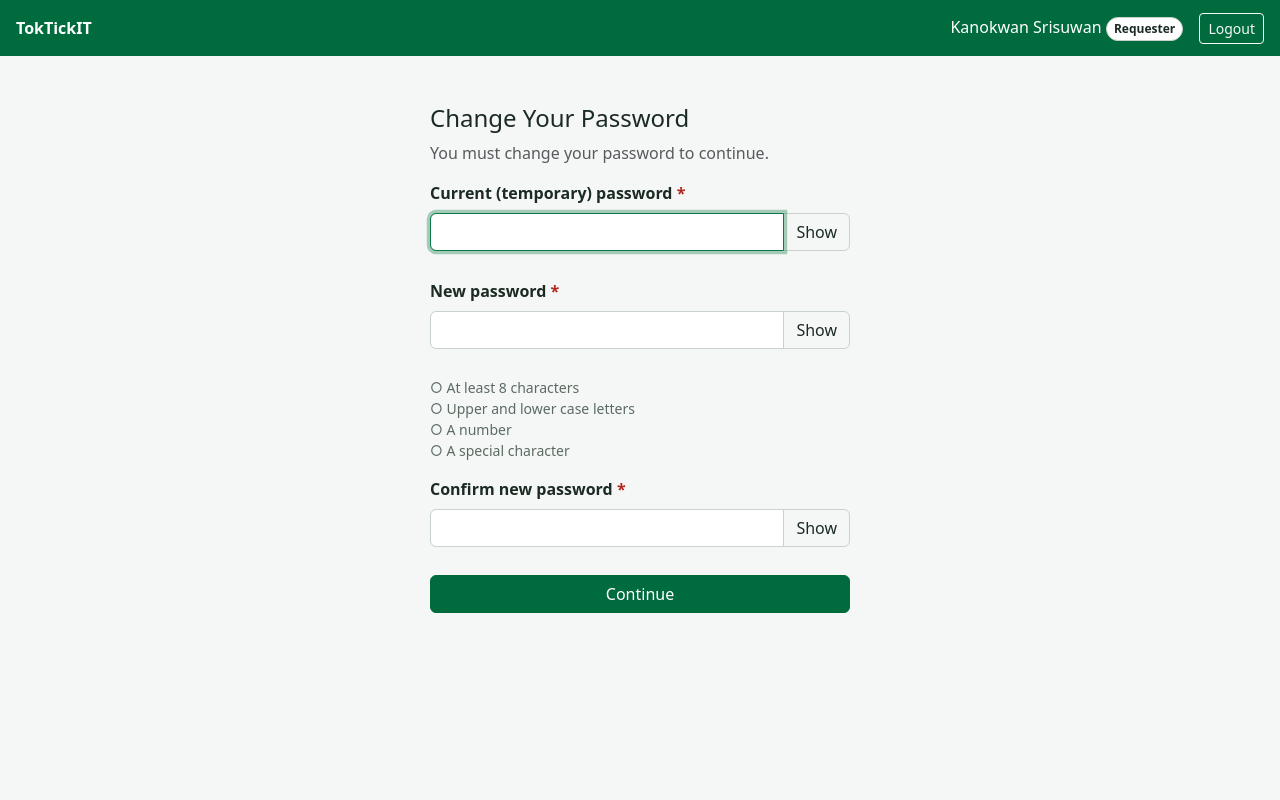
Test: Change Password screen › saves the new password, continues into the application, and the navigation appears
In the password field labelled "Current (temporary) password *": (607, 232) [430,213,784,251], type "ChangeMe!23"
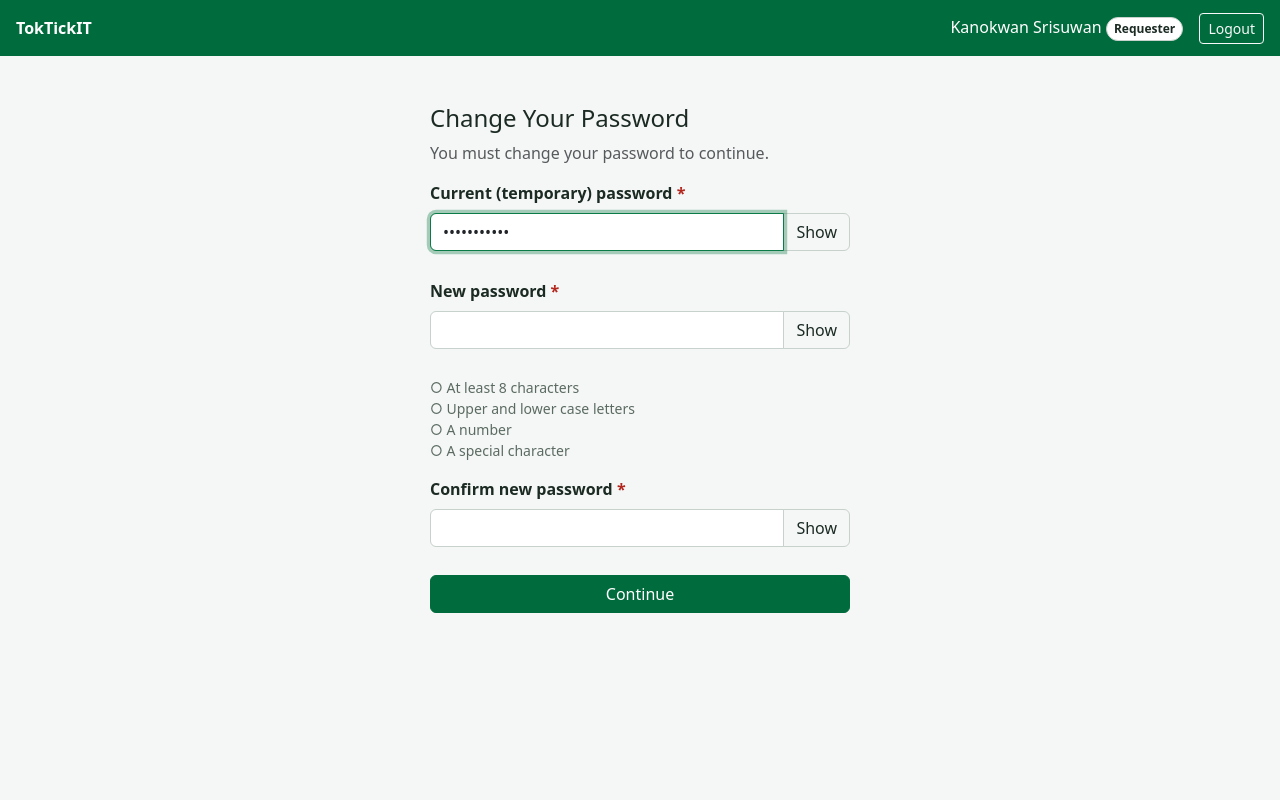
In the password field labelled "New password *": (607, 330) [430,311,784,349], type "Fresh!Pass456"
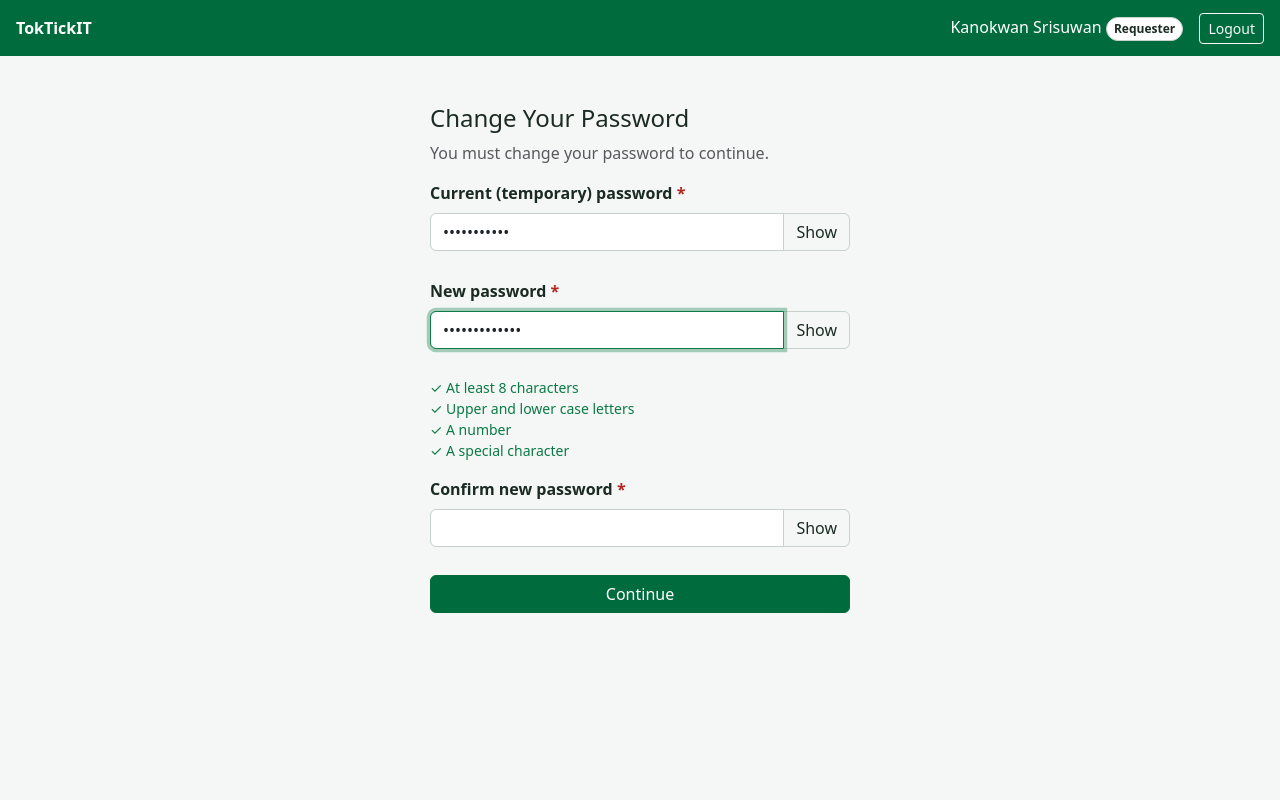
In the password field labelled "Confirm new password *": (607, 528) [430,509,784,547], type "Fresh!Pass456"
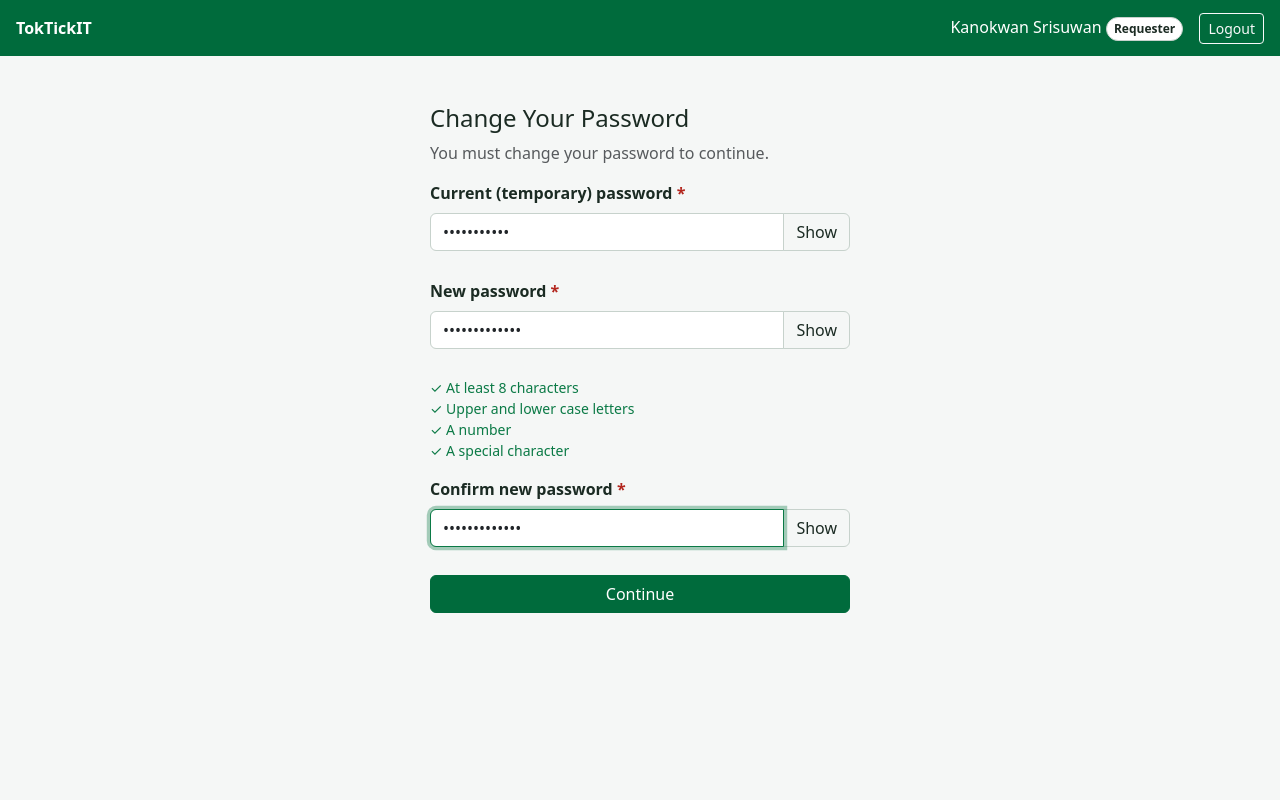
Click the button "Continue": (640, 594) [430,575,850,613]
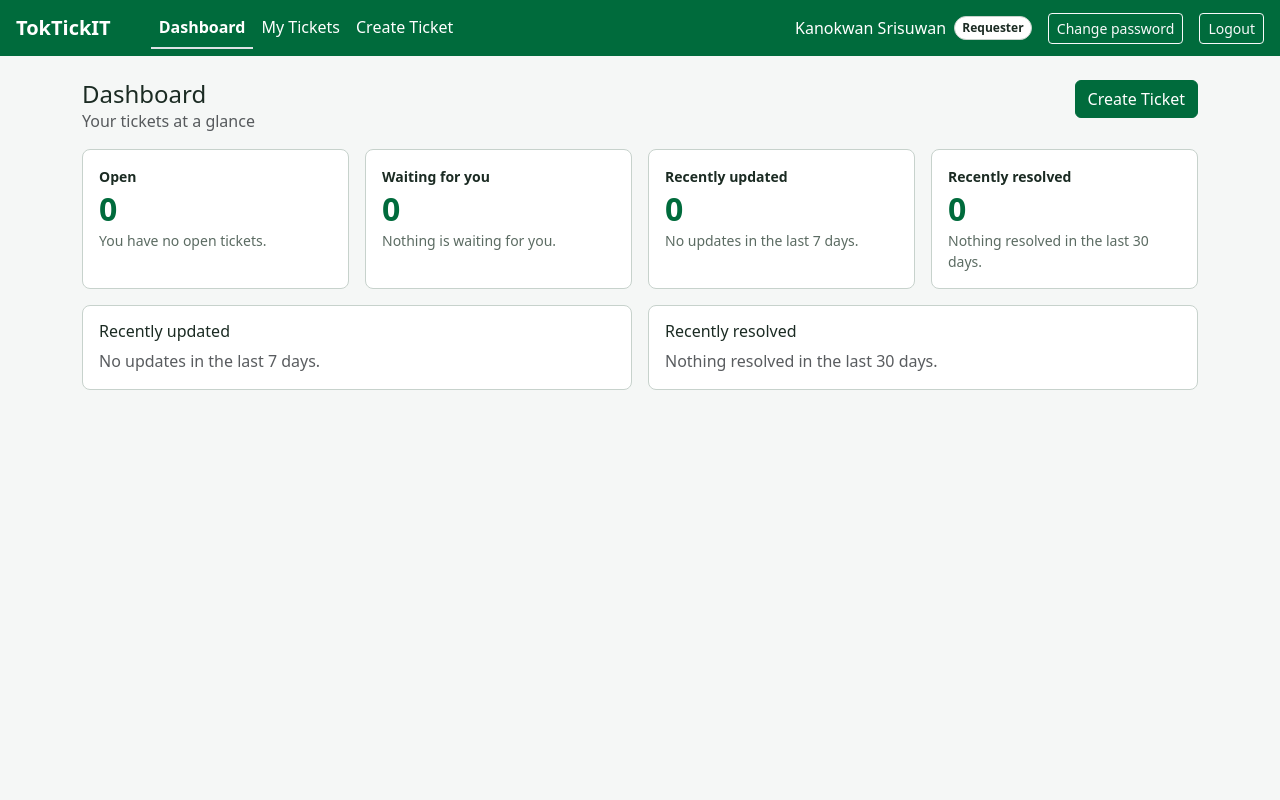
Expected: the text "Your tickets at a glance" is shown, [82,109,255,133]
Expected: the link "Create Ticket" next to "My Tickets" is shown, [356,16,453,38]
Expected: the text "You must change your password to continue." is gone
